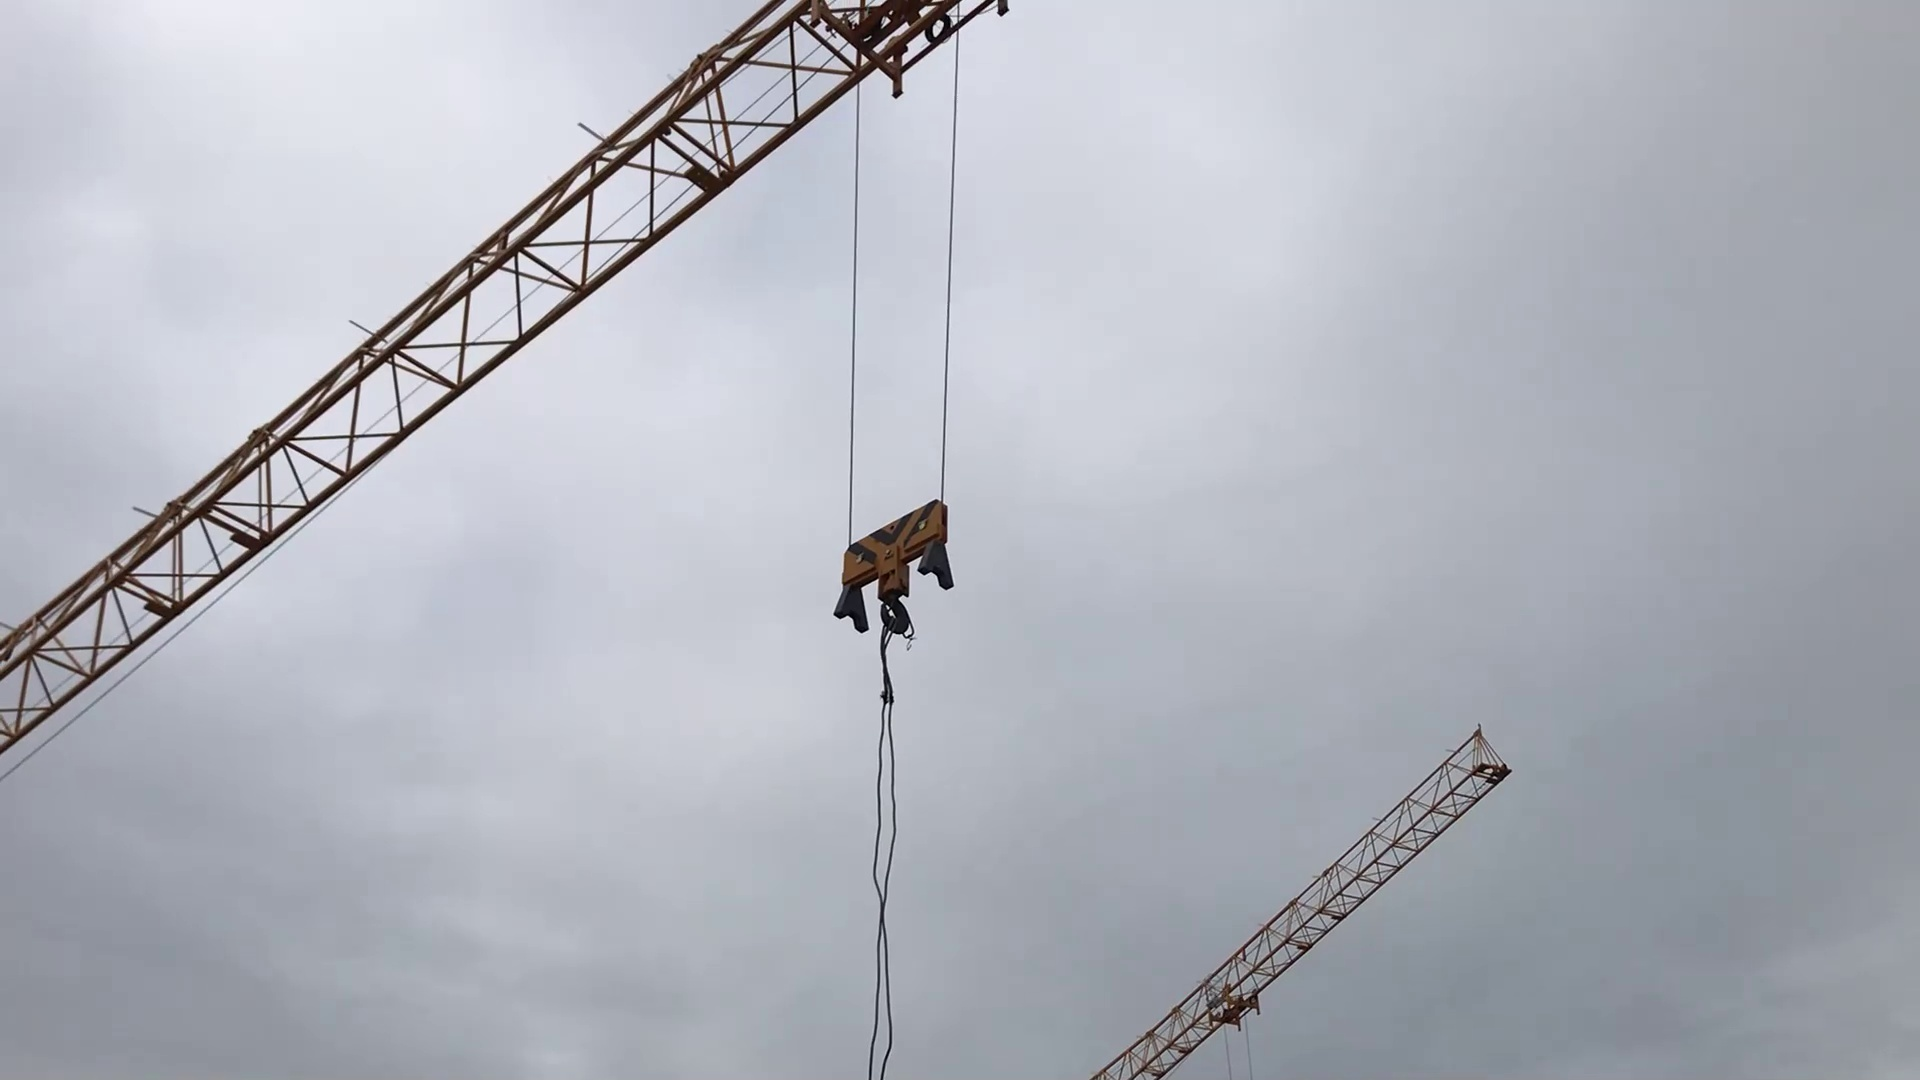hook: (823, 493, 971, 655)
